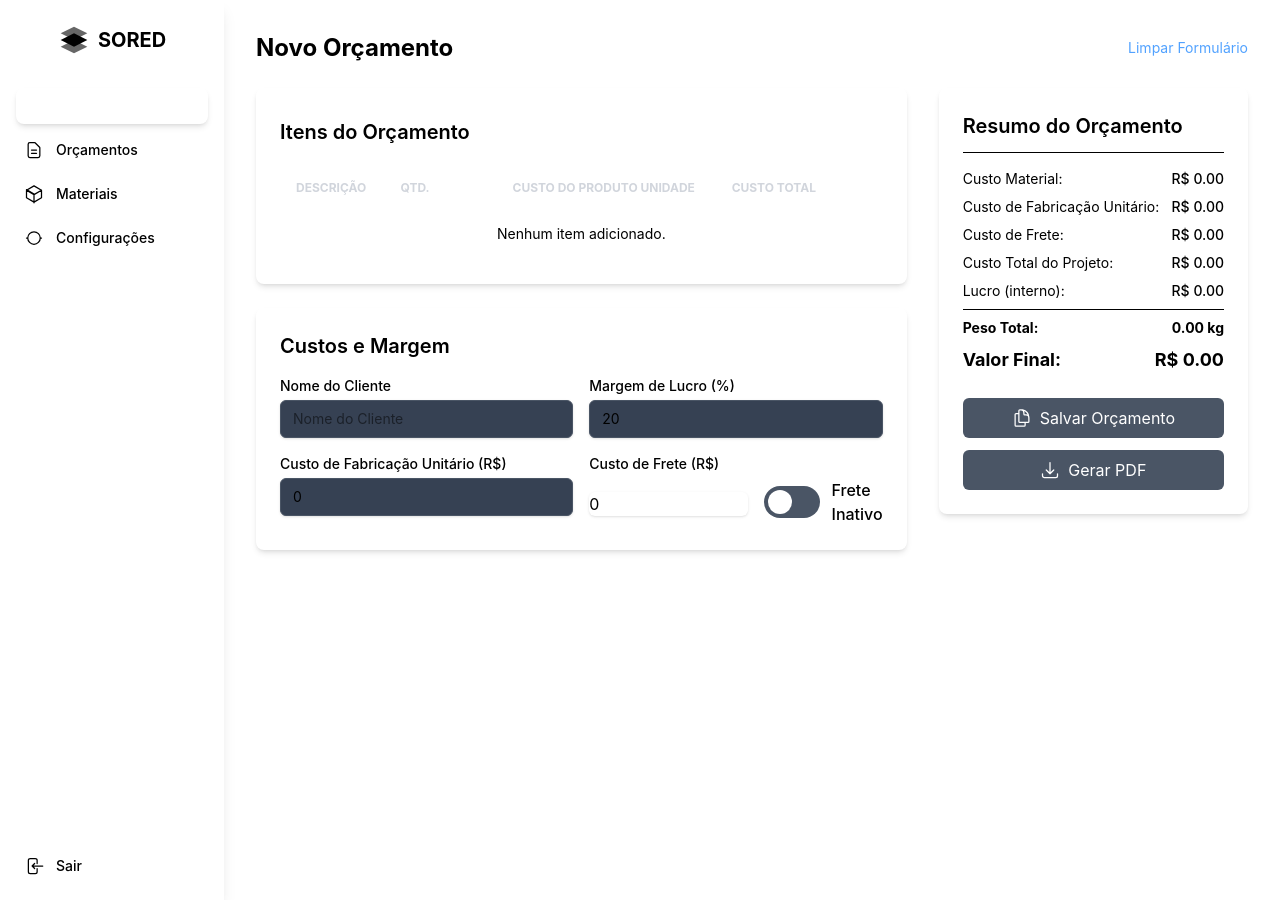
Test: MainLayout varied data scenarios › switching to Materiais then back to Novo Orçamento hides MaterialManagement
Click the button "Materiais": click(112, 194) 16,176 -> 208,212
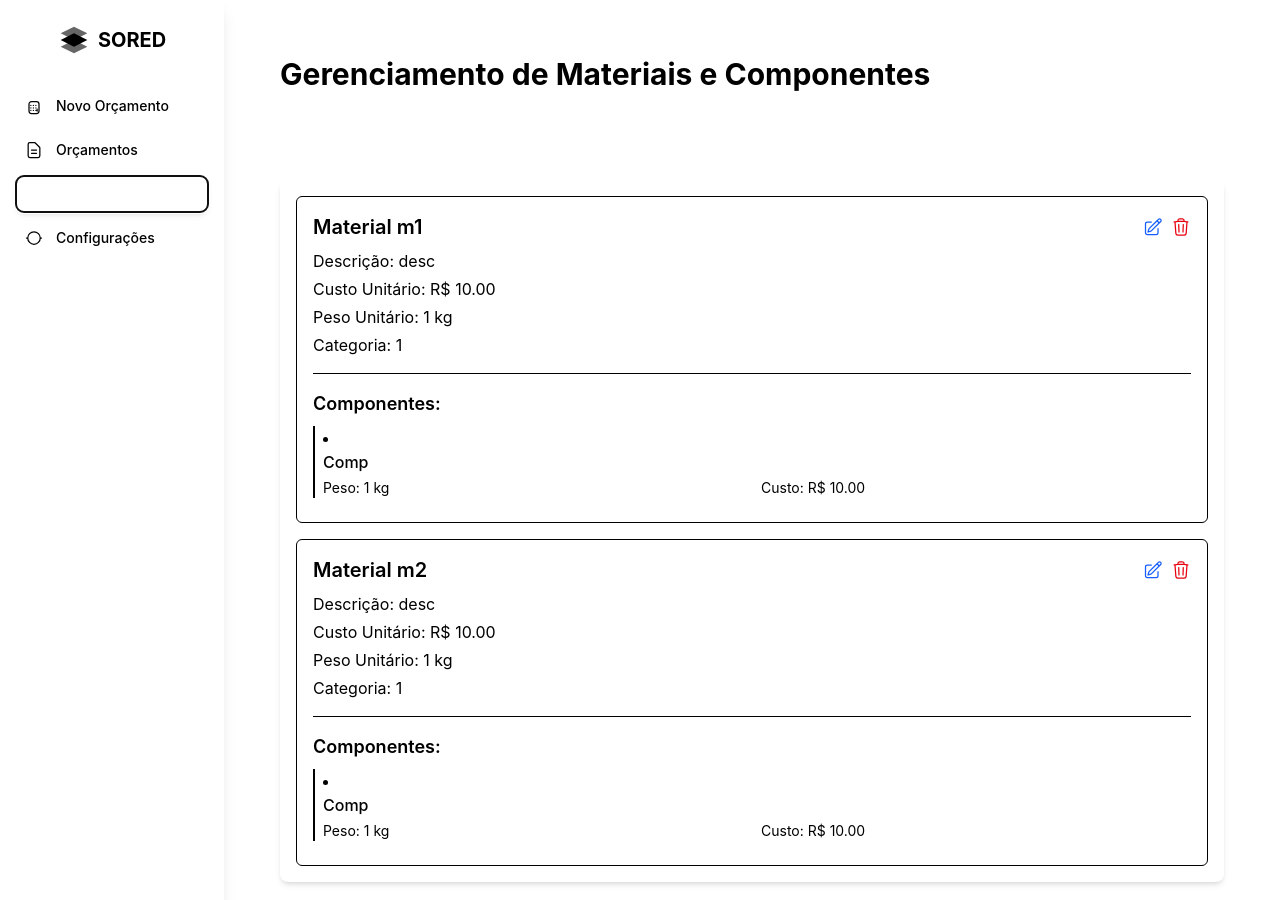
Click the button "Novo Orçamento": click(112, 106) 16,88 -> 208,124
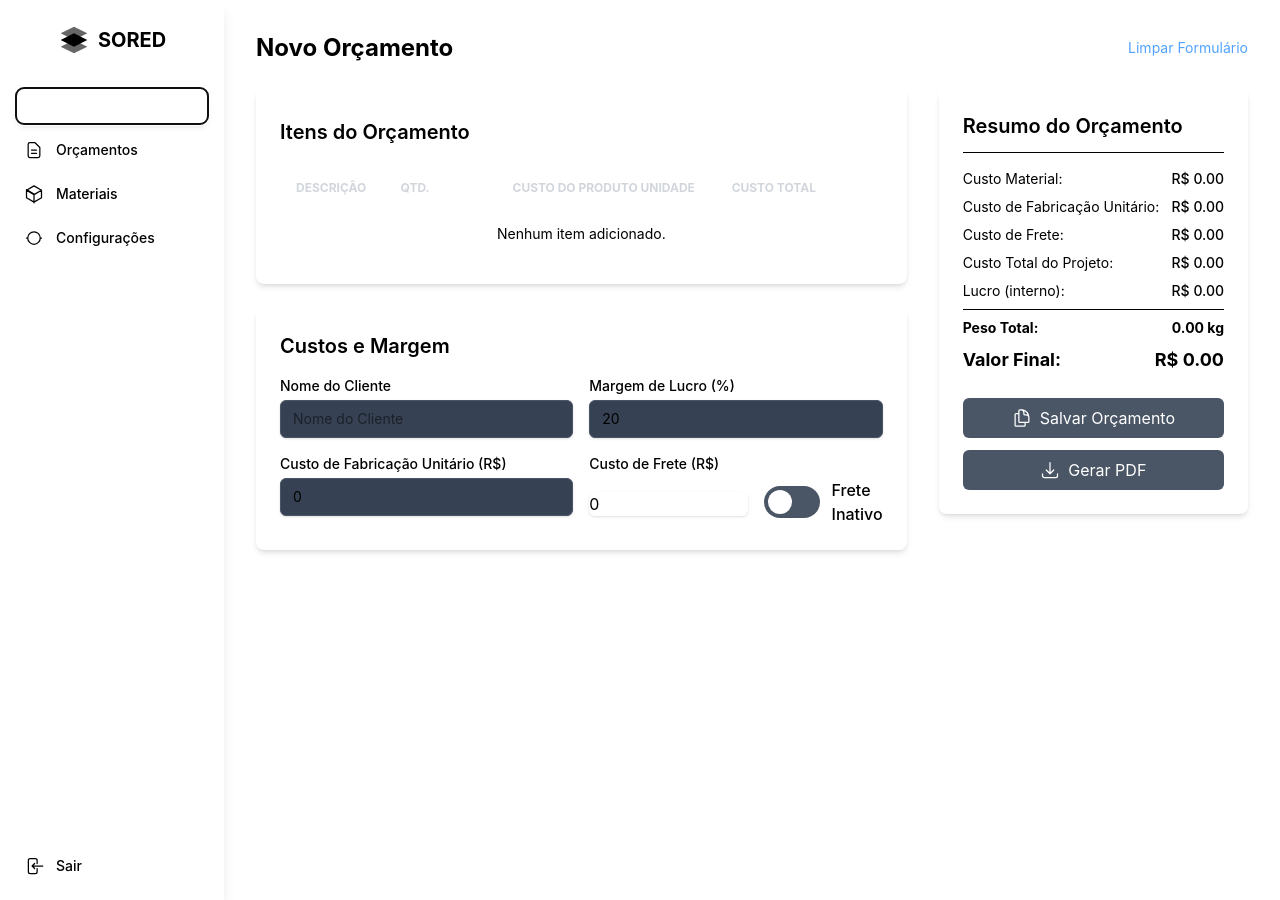
Result: the element with test id "quote-calculator-root" is shown at 256,32 -> 1248,550
